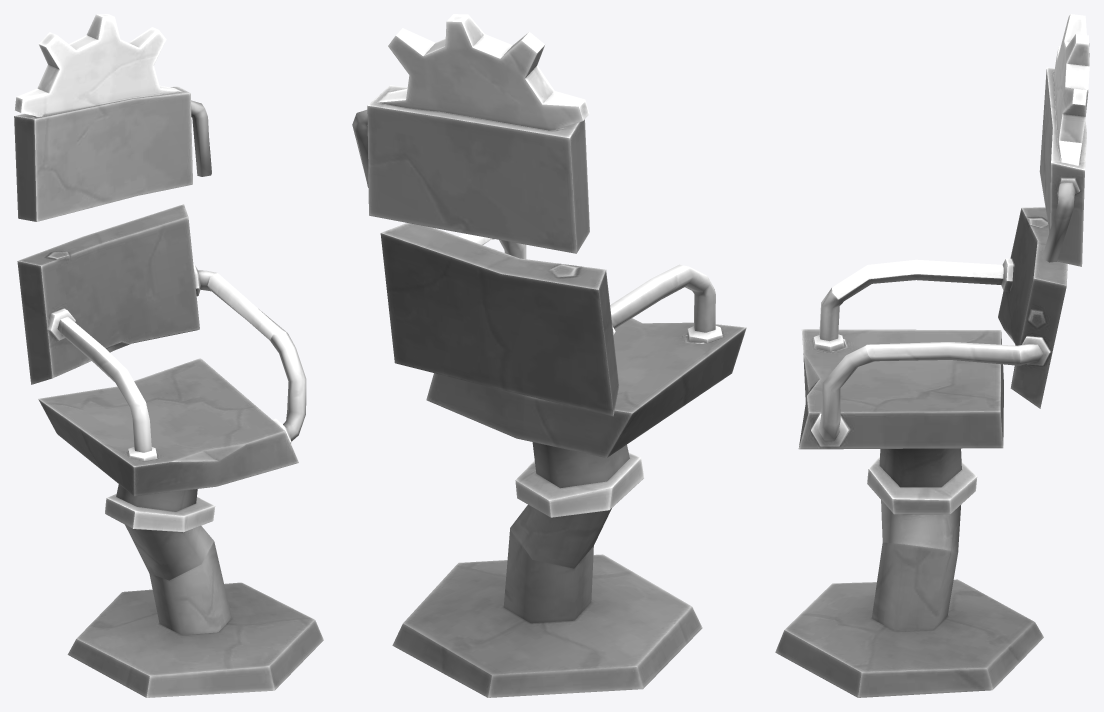
The model's file is obj_bench01_medium.gltf.
3 renders of one model, left to right at view 1: azimuth 30°, elevation 25°; view 2: azimuth 150°, elevation 25°; view 3: azimuth 270°, elevation 25°, orthographic. The views are drawn at different scales.
Parts seen in each view (by area): view 1: obj_bench01_medium; view 2: obj_bench01_medium; view 3: obj_bench01_medium.
Boxes of the visible parts, left/top/right/bottom form: obj_bench01_medium: left=14, top=14, right=323, bottom=697; obj_bench01_medium: left=352, top=14, right=746, bottom=697; obj_bench01_medium: left=775, top=14, right=1089, bottom=697.
Size of what is drawn, in the model's own units: 0.7342 by 1.86 by 0.8761.
Materials: 1 (1 with a texture image).
